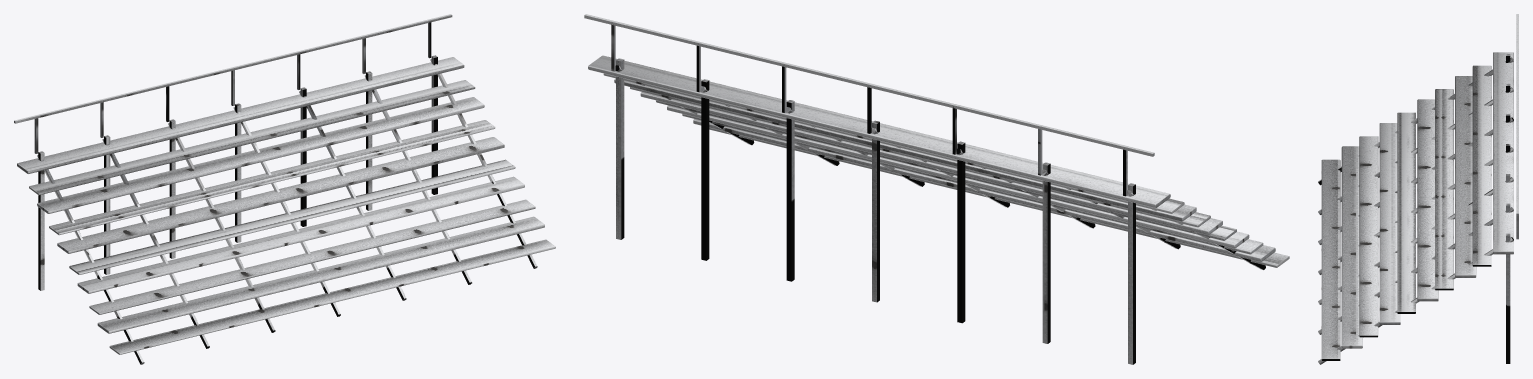
The model's file is WFBleachers.fbx.
The picture shows the model from 3 angles, left to right: view 1: azimuth 30°, elevation 25°; view 2: azimuth 150°, elevation 25°; view 3: azimuth 270°, elevation 25°; orthographic projection. The views are drawn at different scales.
Parts seen in each view (by area): view 1: WFBleachers; view 2: WFBleachers; view 3: WFBleachers.
Boxes of the visible parts, box(x1,y1,x2,y2) form: WFBleachers: box(14, 14, 555, 364); WFBleachers: box(584, 14, 1289, 364); WFBleachers: box(1318, 14, 1518, 364).
Size of the model in its own units: 2000 by 752 by 850.
